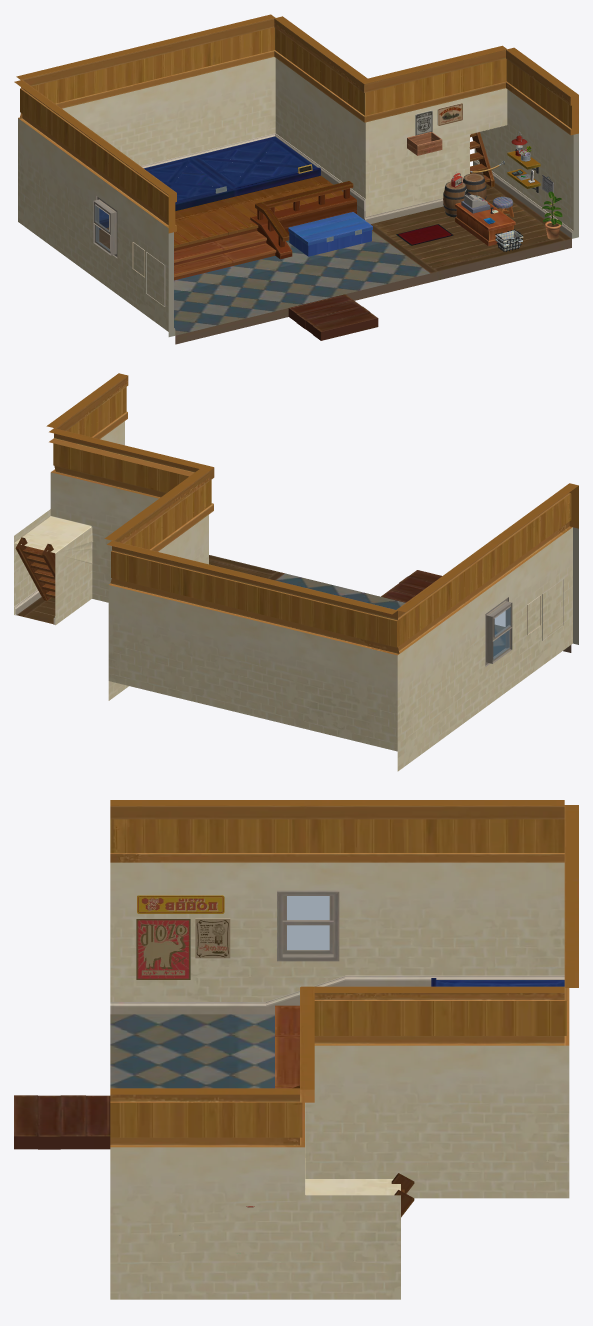
The model's file is shell.glb.
3 renders of one model, top to bottom at view 1: azimuth 30°, elevation 25°; view 2: azimuth 150°, elevation 25°; view 3: azimuth 270°, elevation 25°, orthographic. The views are drawn at different scales.
Bounding box in the file's own units: 145 × 51 × 117.
Materials: 6 (5 with a texture image).
